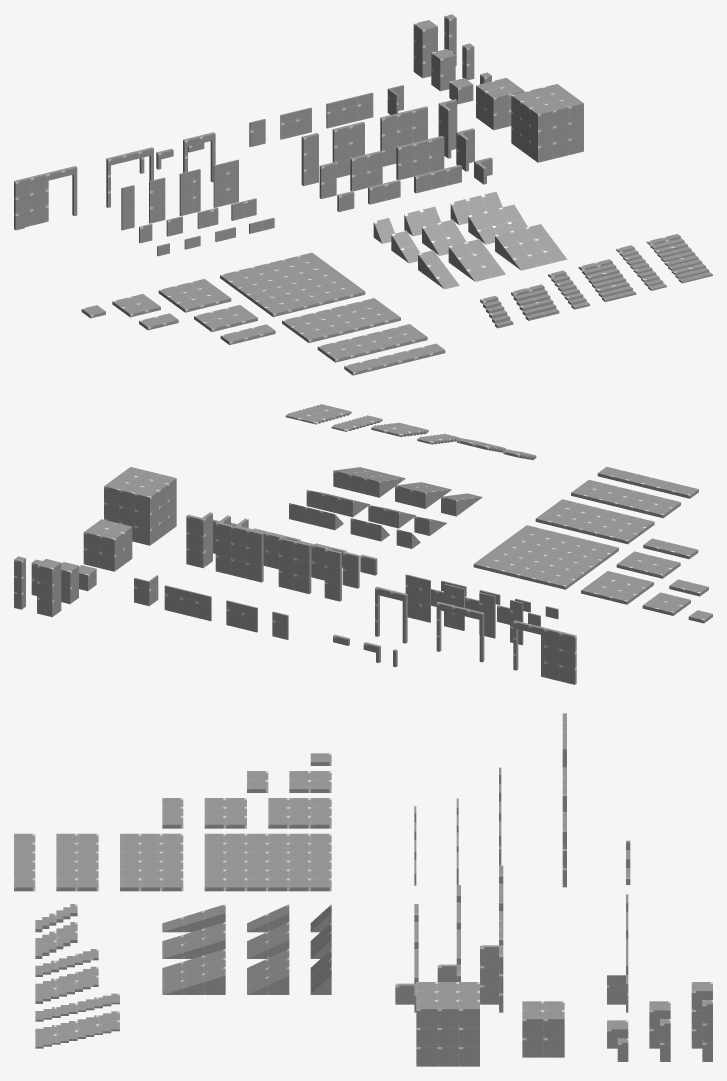
Rendered from ArchitectureAssets.fbx.
3 views of the same model, one above another, from view 1: azimuth 30°, elevation 25°; view 2: azimuth 150°, elevation 25°; view 3: azimuth 270°, elevation 25° (orthographic). The views are drawn at different scales.
Visible parts, largest first — view 1: Floor_600W_600D, Block_300W_300H, Floor_600W_300D, HikidoFrame_400W_300H, Slope_300D_100H_300W, Floor_600W_200D, Wall_300W_300H, Block_200W_200H, Stairs_400D_100H_200W, Wall_300W_200H, Slope_300D_100H_200W, Floor_300W_300D (+33 smaller); view 2: Floor_600W_600D, Block_300W_300H, Floor_600W_300D, Wall_300W_300H, HikidoFrame_400W_300H, Block_200W_200H, Floor_600W_200D, Wall_200W_300H, Floor_300W_300D, Slope_300D_100H_300W, Wall_Corner_300H, Block_100W_300H (+27 smaller); view 3: Floor_600W_600D, Block_300W_300H, Floor_600W_300D, Floor_600W_200D, Block_200W_200H, Slope_300D_100H_300W, Floor_300W_300D, Stairs_400D_100H_200W, Slope_300D_100H_200W, Slope_200D_100H_300W, Wall_Corner_300H, Stairs_300D_100H_200W (+16 smaller).
Boxes of the visible parts, box(x1,y1,x2,y2) form: Floor_600W_600D: box(220, 252, 365, 317); Block_300W_300H: box(511, 84, 583, 162); Floor_600W_300D: box(282, 298, 400, 342); HikidoFrame_400W_300H: box(14, 166, 77, 230); Slope_300D_100H_300W: box(495, 224, 567, 270); Floor_600W_200D: box(317, 324, 427, 362); Wall_300W_300H: box(380, 106, 427, 166); Block_200W_200H: box(476, 78, 524, 130); Stairs_400D_100H_200W: box(646, 234, 712, 283); Wall_300W_200H: box(396, 136, 444, 179); Slope_300D_100H_200W: box(448, 239, 505, 281); Floor_300W_300D: box(158, 279, 231, 312); Floor_600W_600D: box(473, 525, 618, 589); Block_300W_300H: box(104, 467, 176, 545); Floor_600W_300D: box(535, 499, 654, 544); Wall_300W_300H: box(215, 522, 263, 582); HikidoFrame_400W_300H: box(513, 620, 576, 684); Block_200W_200H: box(83, 519, 132, 571); Floor_600W_200D: box(571, 479, 680, 518); Wall_200W_300H: box(278, 537, 311, 593); Floor_300W_300D: box(581, 571, 653, 604); Slope_300D_100H_300W: box(333, 467, 405, 497); Wall_Corner_300H: box(186, 512, 212, 568); Block_100W_300H: box(37, 559, 61, 617); Floor_600W_600D: box(204, 833, 331, 891); Block_300W_300H: box(416, 982, 479, 1066); Floor_600W_300D: box(120, 833, 183, 891); Floor_600W_200D: box(56, 833, 98, 891); Block_200W_200H: box(522, 1001, 564, 1057); Slope_300D_100H_300W: box(162, 949, 225, 994); Floor_300W_300D: box(268, 798, 331, 828); Stairs_400D_100H_200W: box(35, 1011, 119, 1048); Slope_300D_100H_200W: box(162, 922, 225, 958); Slope_200D_100H_300W: box(247, 949, 289, 994); Wall_Corner_300H: box(480, 945, 503, 1012); Stairs_300D_100H_200W: box(35, 966, 98, 1003).
Size of what is drawn, in the model's own units: 3500 by 320 by 3300.
